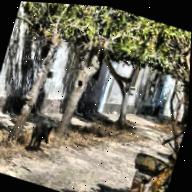boar: (18, 113, 63, 166)
